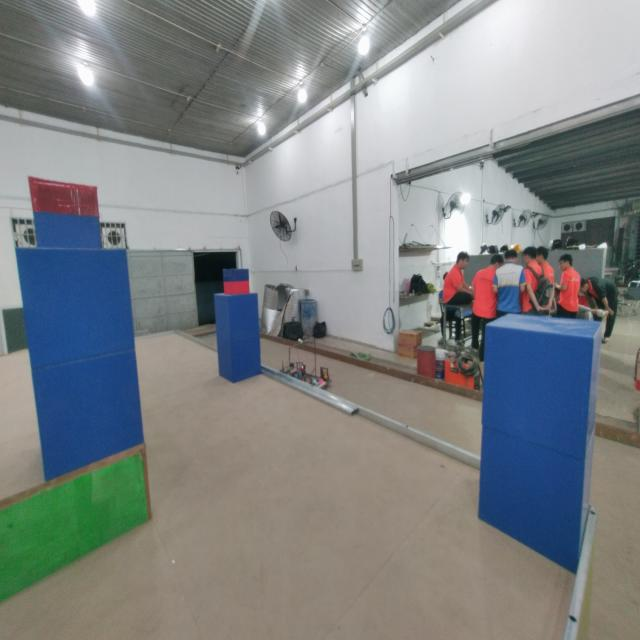earth_block: (482, 307, 604, 455), (478, 436, 603, 575), (18, 348, 146, 481), (13, 247, 138, 369), (214, 294, 260, 339), (215, 339, 262, 383)
sky_block: (24, 176, 103, 249), (222, 268, 252, 292)
